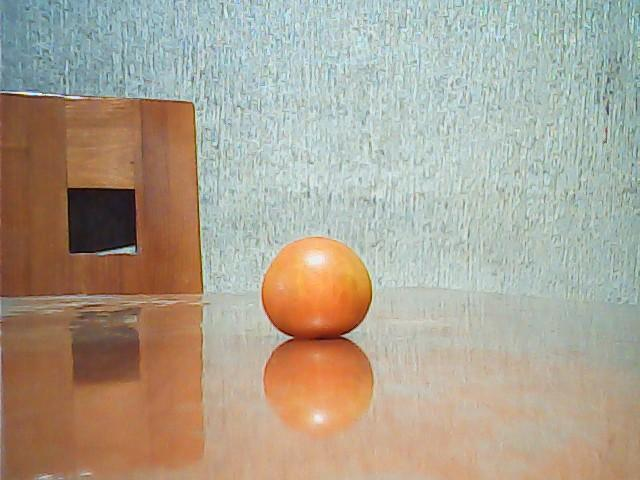verde: (260, 237, 372, 339)
